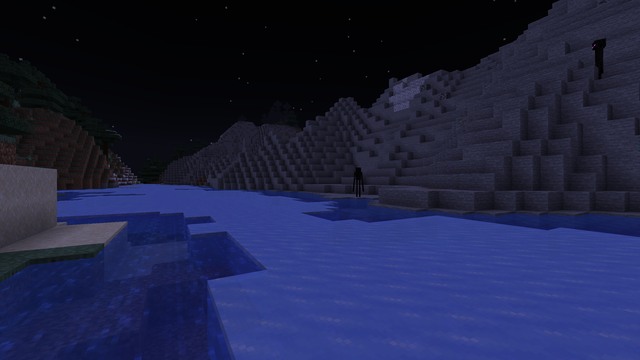endermens: (591, 36, 606, 73), (353, 166, 361, 196)
